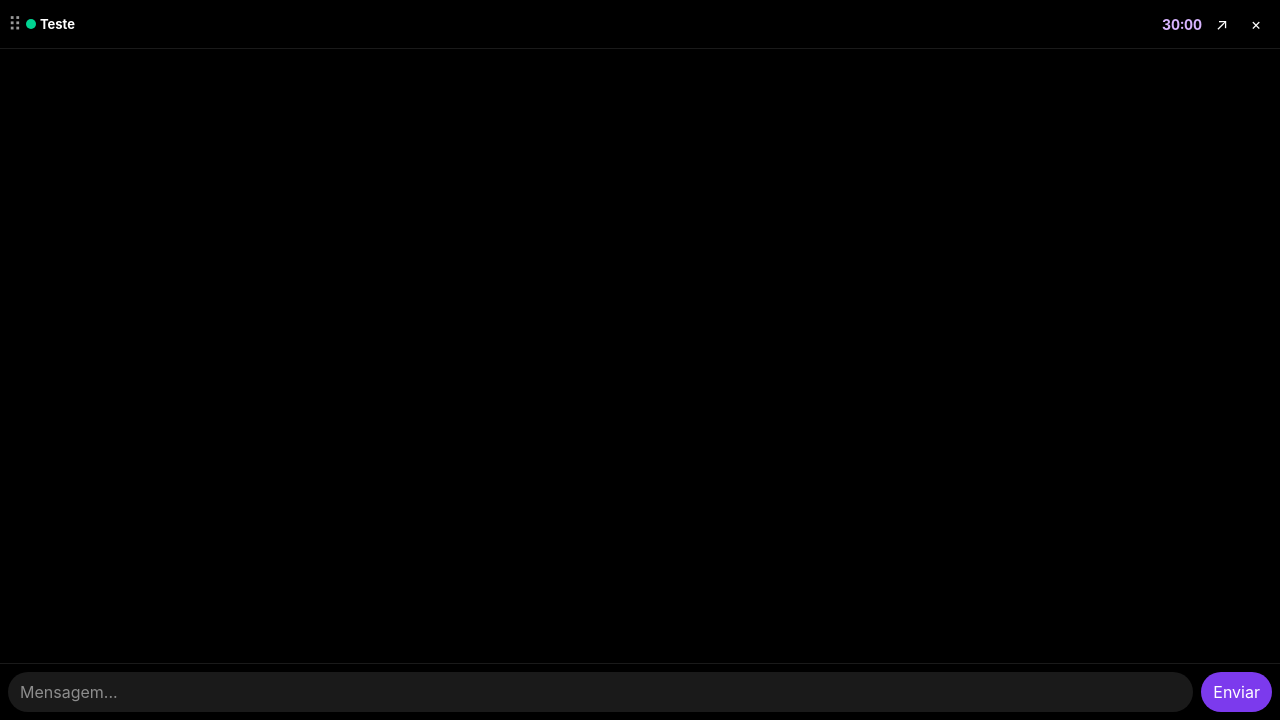
Test: Mini Cloud leave › shows a sent message immediately in the external window and deduplicates its socket event
Type "Mensagem pela janela" into the field at {"x": 601, "y": 692}, box [8,672,1193,712]
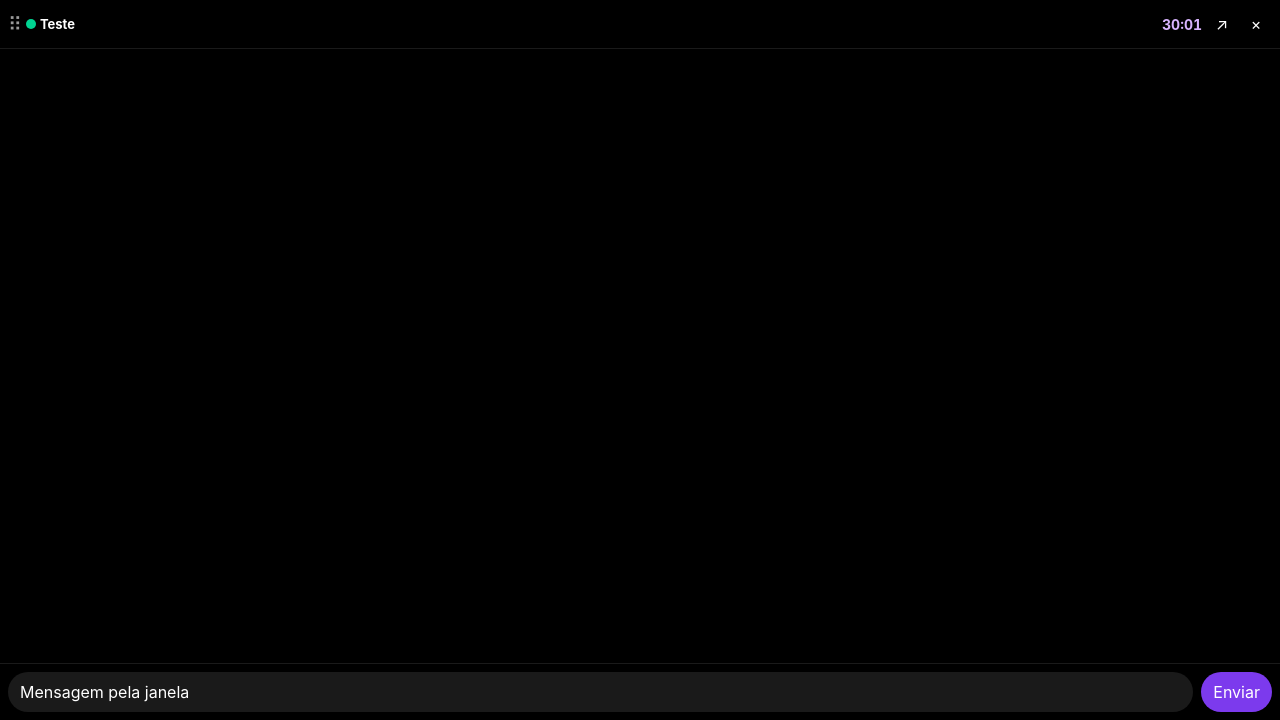
Click the button "Enviar" at {"x": 1237, "y": 692}, box [1201,672,1272,712]
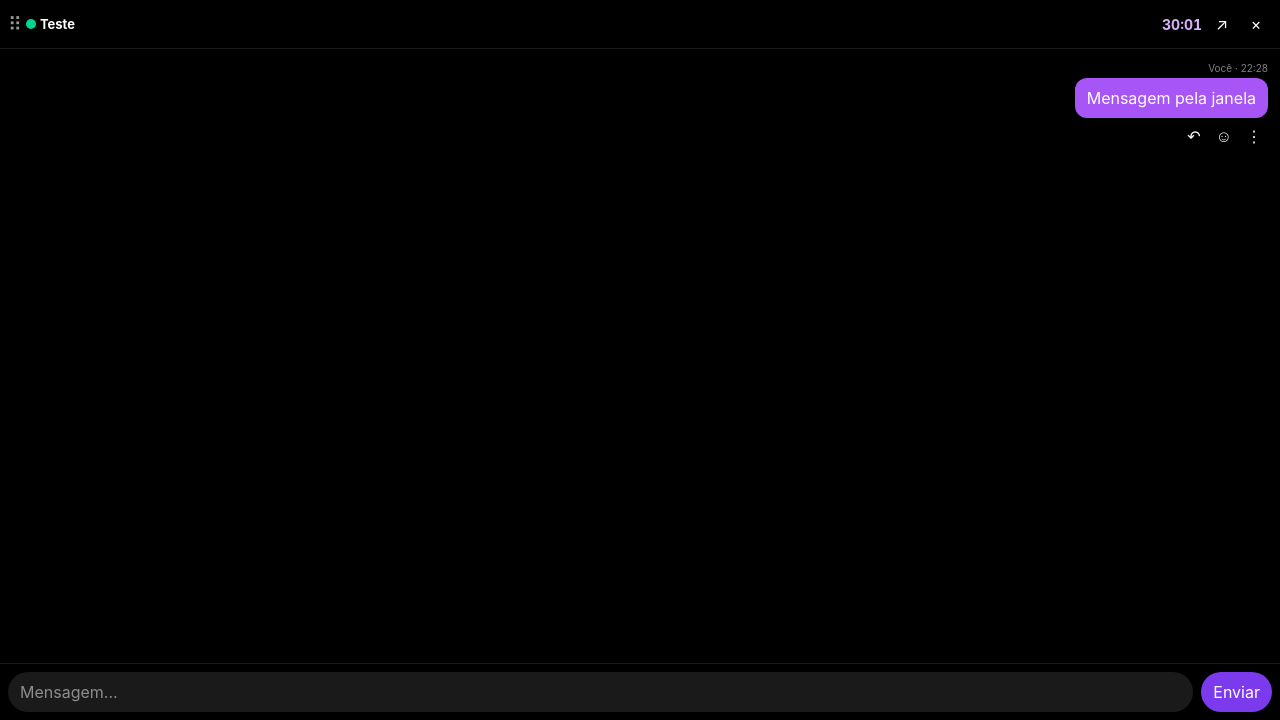
Check: the number of buttons "Mensagem pela janela" is 1, box [1075,78,1268,118]
